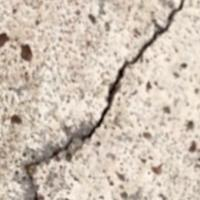crack: (18, 0, 186, 199)
